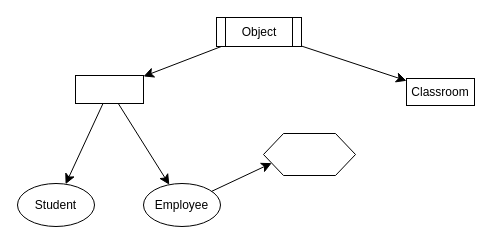
This 492x244 diagram has some shape labels left out. The shapes that lost their labels are listed below. From the top down, each one's centre as x and y in pixels, then its label:
[109,89]: Person
[309,154]: Instructor
